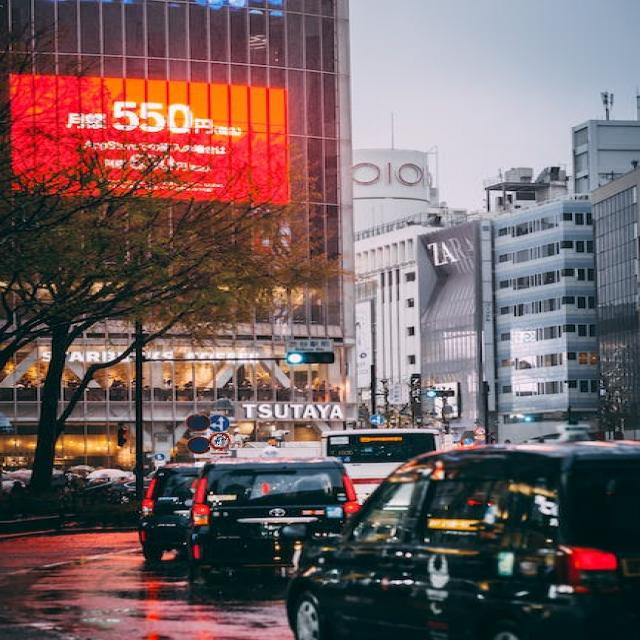no u turn: (209, 433, 230, 451)
